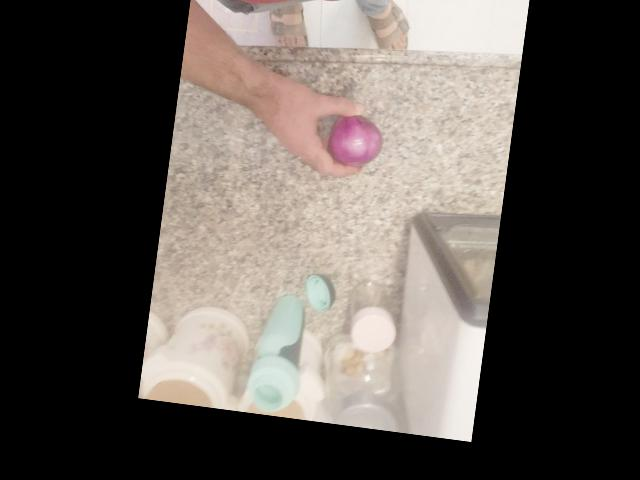onion: (410, 256, 474, 310)
